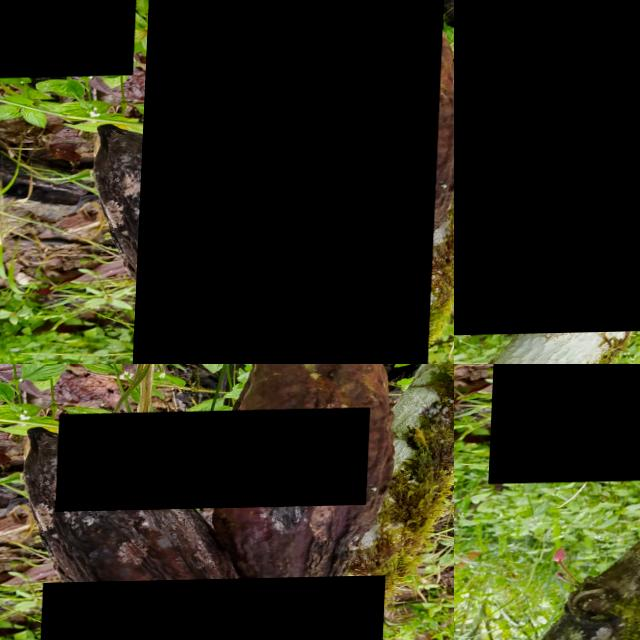Fitoftora: (134, 0, 446, 364), (454, 0, 640, 338), (58, 410, 372, 513), (43, 577, 389, 640), (492, 364, 640, 484), (0, 0, 140, 79)
